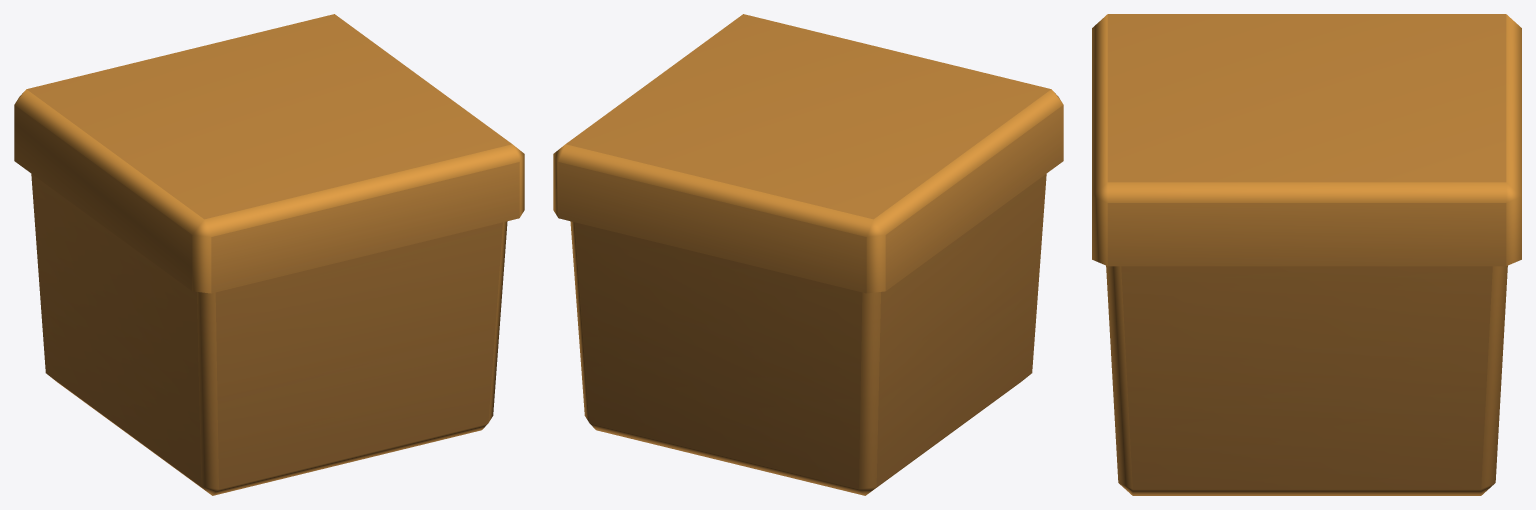
File: giftbox_009.fbx
The picture shows the model from 3 angles, left to right: view 1: azimuth 30°, elevation 25°; view 2: azimuth 150°, elevation 25°; view 3: azimuth 270°, elevation 25°; orthographic projection. The views are drawn at different scales.
Visible parts, largest first — view 1: giftbox_009; view 2: giftbox_009; view 3: giftbox_009.
Part boxes in pixels (left/top/right/bottom): giftbox_009: left=14, top=14, right=524, bottom=495; giftbox_009: left=553, top=14, right=1063, bottom=495; giftbox_009: left=1092, top=14, right=1521, bottom=495.
Bounding box in the file's own units: 192 × 192 × 160.
